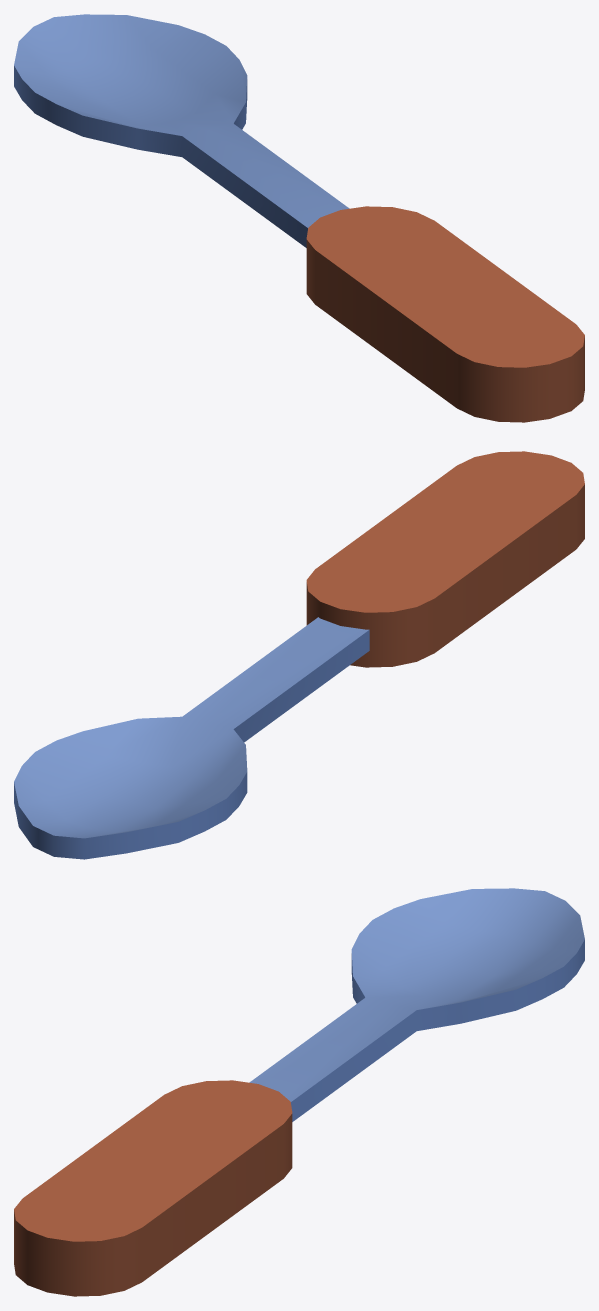
File: Spoon A.fbx
The picture shows the model from 3 angles, top to bottom: view 1: azimuth 30°, elevation 25°; view 2: azimuth 150°, elevation 25°; view 3: azimuth 330°, elevation 25°; orthographic projection.
Visible parts, largest first — view 1: Spoon; view 2: Spoon; view 3: Spoon.
Boxes of the visible parts, box(x1,y1,x2,y2) form: Spoon: box(14, 14, 584, 422); Spoon: box(14, 451, 584, 859); Spoon: box(14, 888, 584, 1296).
Bounding box in the file's own units: 0.1365 × 0.0411 × 0.6138.
